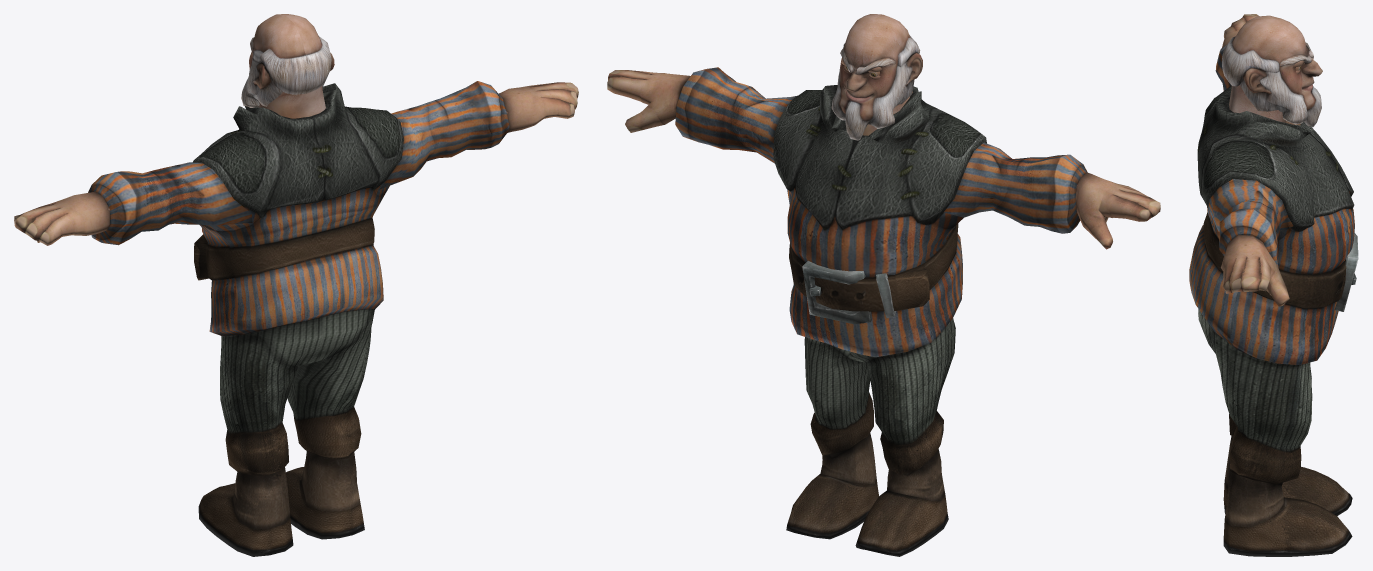
The model's file is peasant.glb.
The picture shows the model from 3 angles, left to right: view 1: azimuth 30°, elevation 25°; view 2: azimuth 150°, elevation 25°; view 3: azimuth 270°, elevation 25°; orthographic projection.
Visible parts, largest first — view 1: Peasant_Man; view 2: Peasant_Man; view 3: Peasant_Man.
Part boxes in pixels (left/top/right/bottom): Peasant_Man: left=14, top=14, right=578, bottom=556; Peasant_Man: left=607, top=14, right=1160, bottom=556; Peasant_Man: left=1189, top=14, right=1358, bottom=556.
Bounding box in the file's own units: 2.33 × 2.05 × 0.6178.
1 material, 1 textured.
